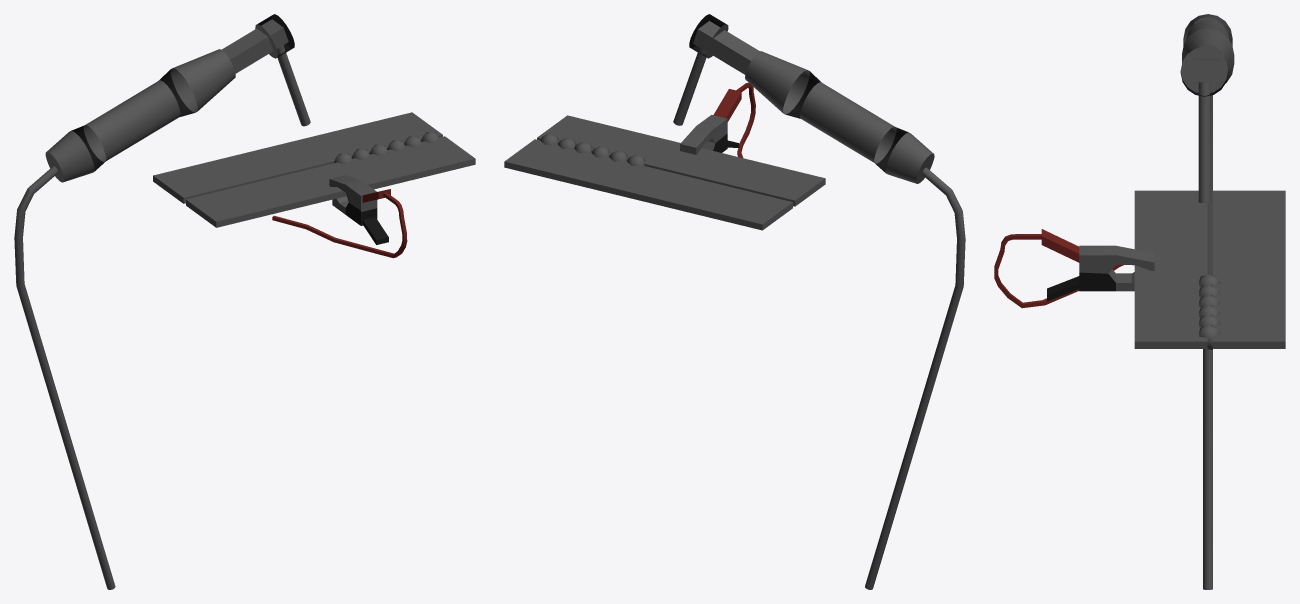
File: svarshik_scene_model_1.gltf
3 views of the same model, side by side, from view 1: azimuth 30°, elevation 25°; view 2: azimuth 150°, elevation 25°; view 3: azimuth 270°, elevation 25° (orthographic). The views are drawn at different scales.
Parts seen in each view (by area): view 1: сварка, Куб, Куб.002, Куб.001, Сфера; view 2: сварка, Куб.002, Куб, Куб.001, Сфера; view 3: Куб.002, Куб, сварка, Куб.001, Сфера.
Boxes of the visible parts, box(x1,y1,x2,y2) form: сварка: box(14, 14, 310, 589); Куб: box(186, 136, 475, 227); Куб.002: box(153, 112, 442, 203); Куб.001: box(272, 175, 407, 258); Сфера: box(334, 132, 439, 164); сварка: box(673, 14, 965, 589); Куб.002: box(504, 139, 792, 230); Куб: box(537, 115, 825, 206); Куб.001: box(680, 82, 755, 157); Сфера: box(540, 134, 645, 165); Куб.002: box(1212, 190, 1285, 348); Куб: box(1134, 190, 1207, 348); сварка: box(1180, 14, 1234, 589); Куб.001: box(994, 229, 1154, 308); Сфера: box(1199, 274, 1220, 349).
Size of what is drawn, in the model's own units: 24.92 by 29.57 by 12.26.
